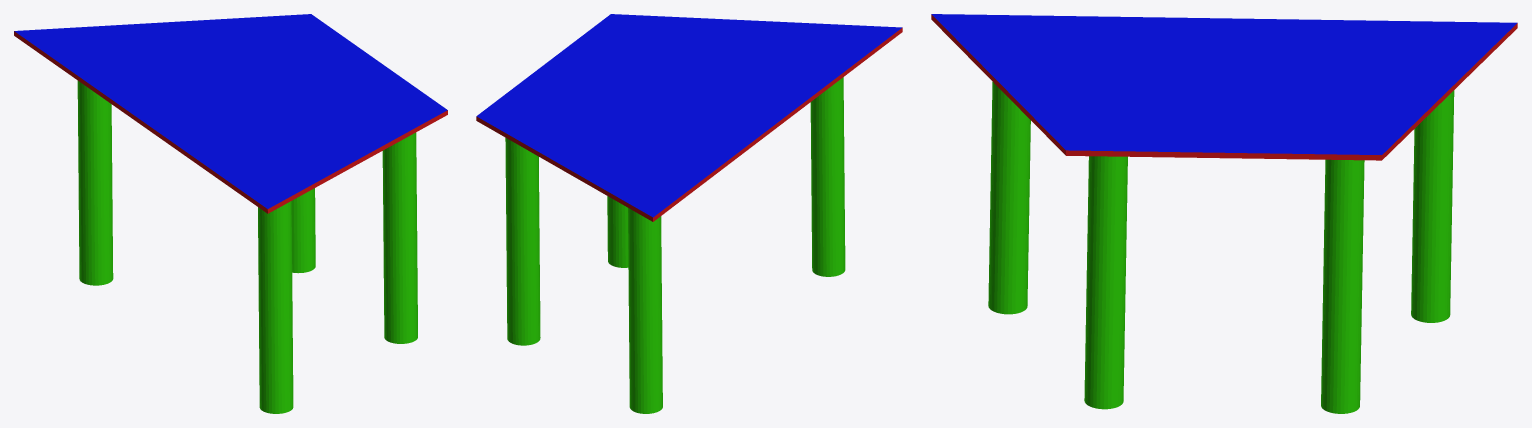
The model's file is Table 1.fbx.
3 views of the same model, side by side, from view 1: azimuth 30°, elevation 25°; view 2: azimuth 150°, elevation 25°; view 3: azimuth 270°, elevation 25° (orthographic). The views are drawn at different scales.
Parts seen in each view (by area): view 1: Стол.001; view 2: Стол.001; view 3: Стол.001.
Part boxes in pixels (box(x1,y1,x2,y2)): Стол.001: box(14, 14, 447, 413); Стол.001: box(476, 14, 902, 413); Стол.001: box(931, 14, 1517, 413).
Size of the model in its own units: 71.41 by 68.31 by 132.
